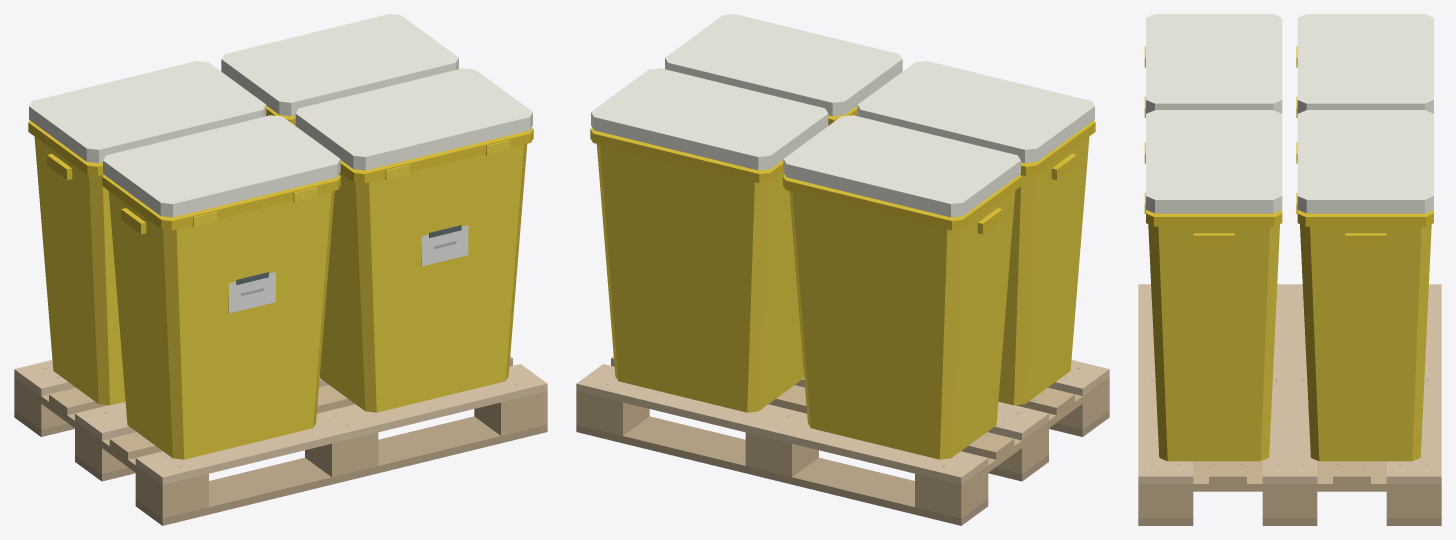
Rendered from palletBins.glb.
3 renders of one model, left to right at view 1: azimuth 30°, elevation 25°; view 2: azimuth 150°, elevation 25°; view 3: azimuth 270°, elevation 25°, orthographic. The views are drawn at different scales.
Parts seen in each view (by area): view 1: Pall med 4 kärl; view 2: Pall med 4 kärl; view 3: Pall med 4 kärl.
Part boxes in pixels (x1,y1,x2,y2): Pall med 4 kärl: (14, 14, 547, 525); Pall med 4 kärl: (576, 14, 1109, 525); Pall med 4 kärl: (1138, 14, 1441, 525).
Size of the model in its own units: 1.2 by 0.94 by 0.8.
